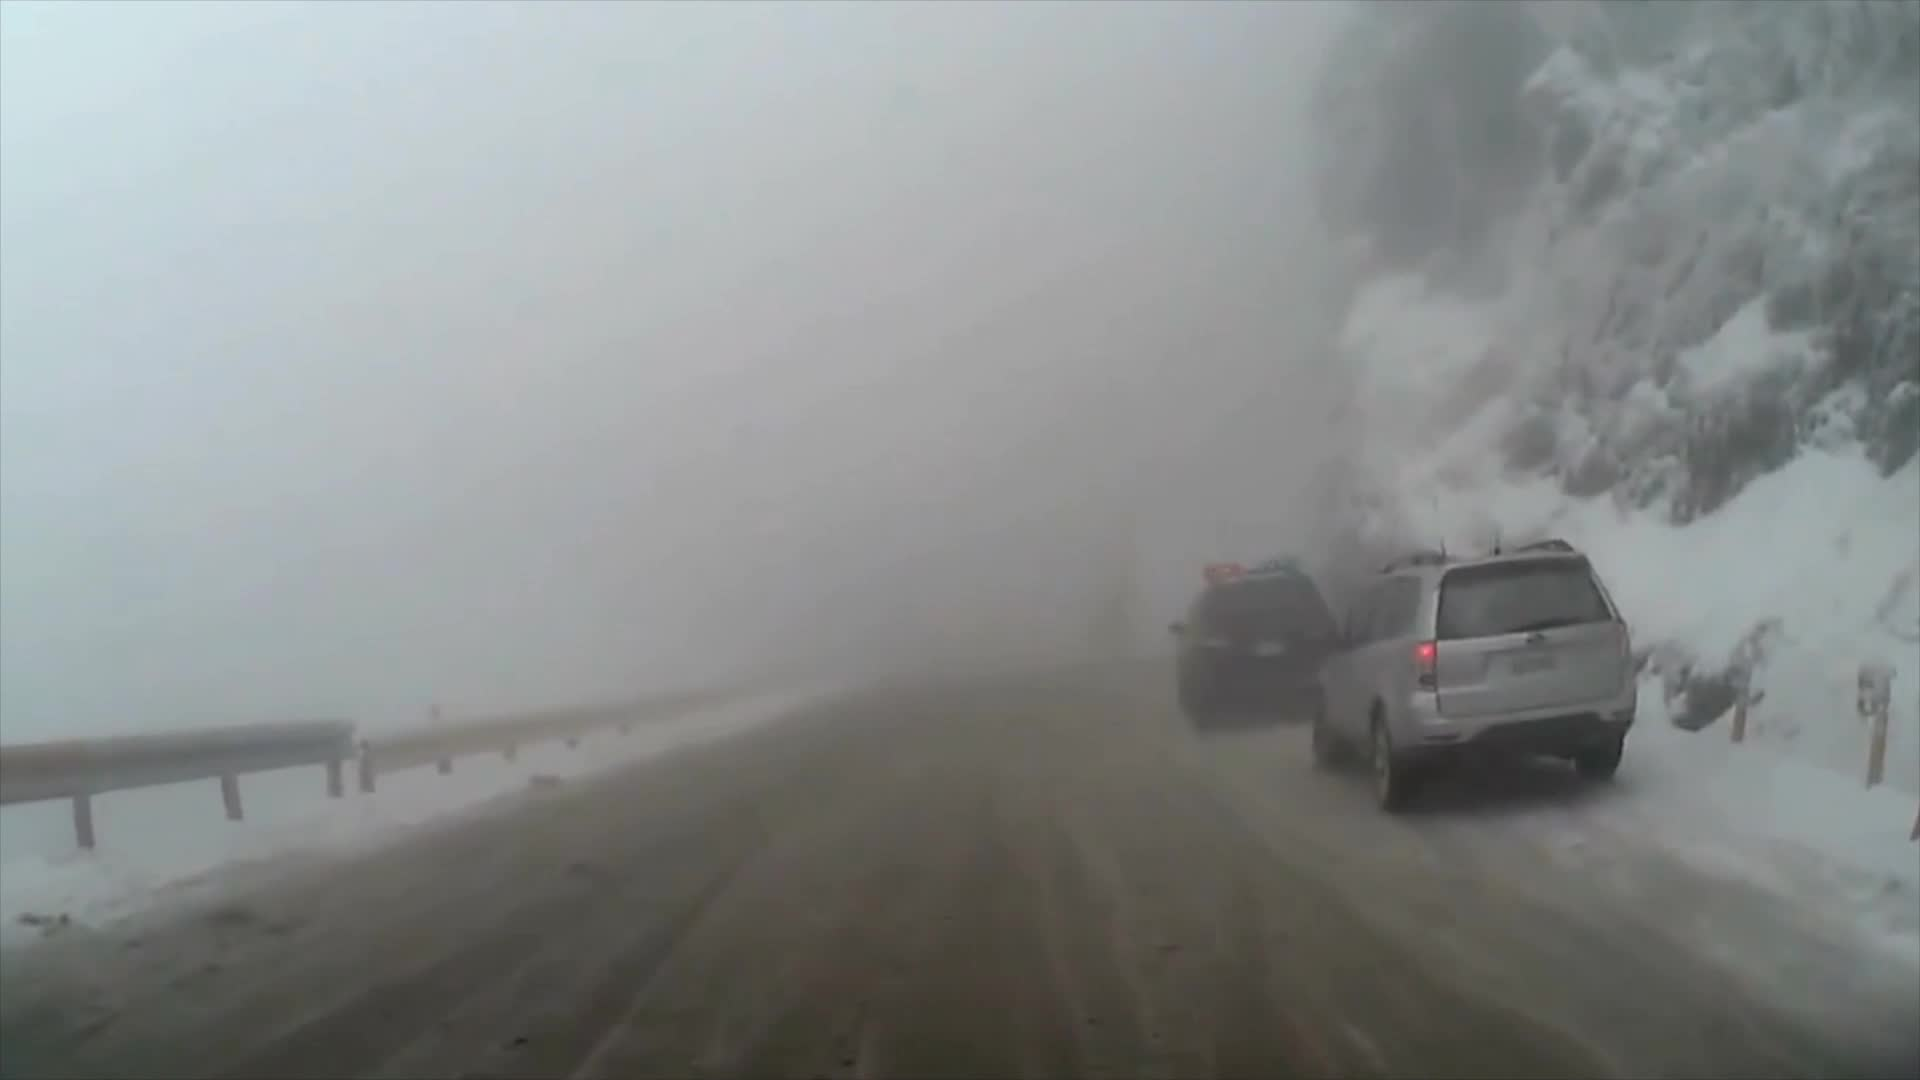vehicle: (1309, 535, 1640, 814), (1168, 551, 1344, 727)
